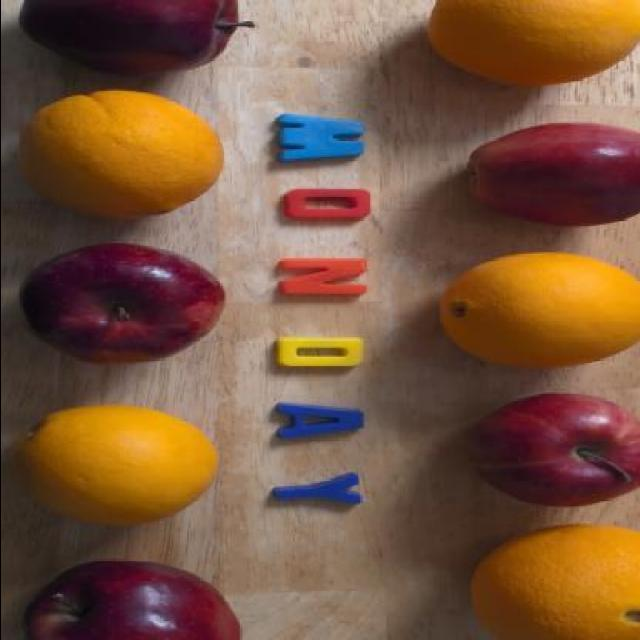Apple pie: (23, 242, 225, 364), (472, 394, 634, 514), (466, 120, 640, 226), (20, 558, 242, 640), (15, 0, 258, 74)
